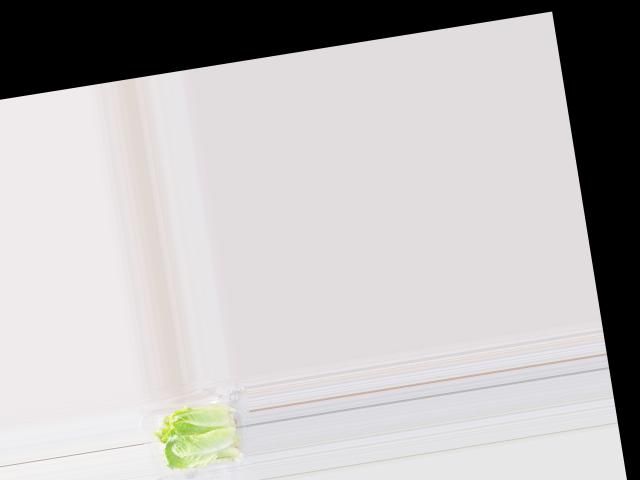lettuce: (150, 399, 240, 473)
